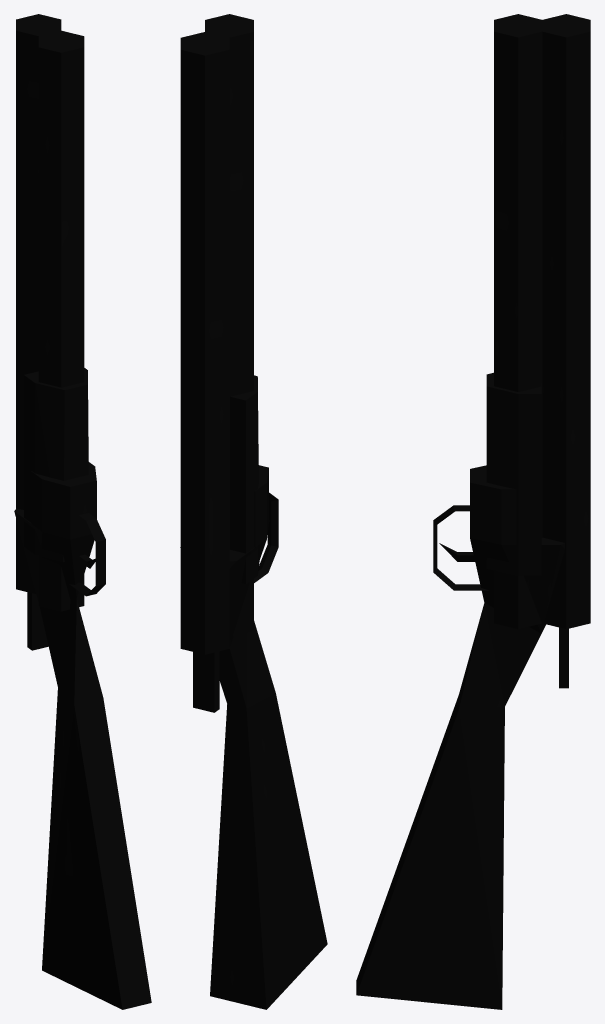
File: Win1894__Mount_ScopeBase.fbx
3 renders of one model, left to right at view 1: azimuth 30°, elevation 25°; view 2: azimuth 150°, elevation 25°; view 3: azimuth 270°, elevation 25°, orthographic. The views are drawn at different scales.
Parts seen in each view (by area): view 1: asset_Win1894.001; view 2: asset_Win1894.001; view 3: asset_Win1894.001.
Boxes of the visible parts, x1,y1,x2,y2 form: asset_Win1894.001: [14, 14, 151, 1009]; asset_Win1894.001: [180, 14, 327, 1009]; asset_Win1894.001: [356, 14, 590, 1009].
Bounding box in the file's own units: 0.0352 × 0.576 × 0.1259.
